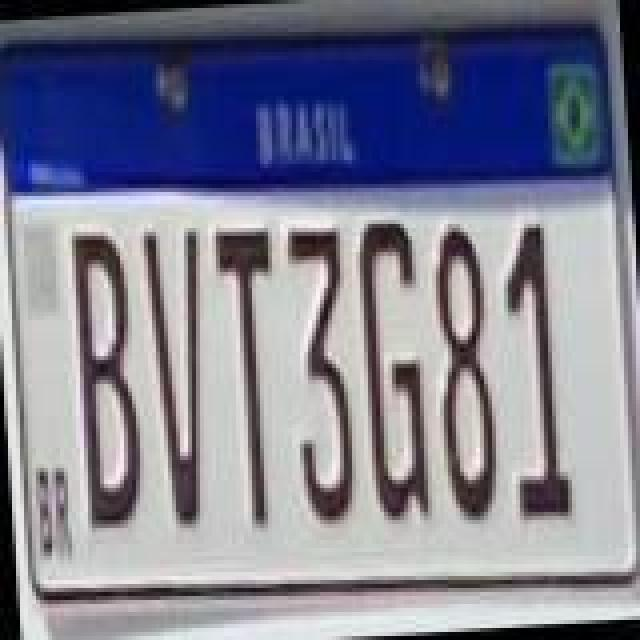1: (498, 214, 574, 522)
3: (282, 220, 358, 532)
8: (426, 220, 502, 524)
B: (68, 228, 148, 532)
G: (354, 216, 430, 528)
T: (212, 222, 292, 530)
V: (140, 222, 220, 530)
